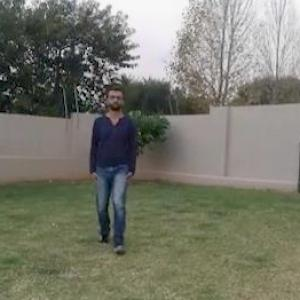follow: (92, 88, 132, 246)
